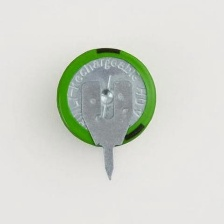battery: (51, 44, 160, 185)
